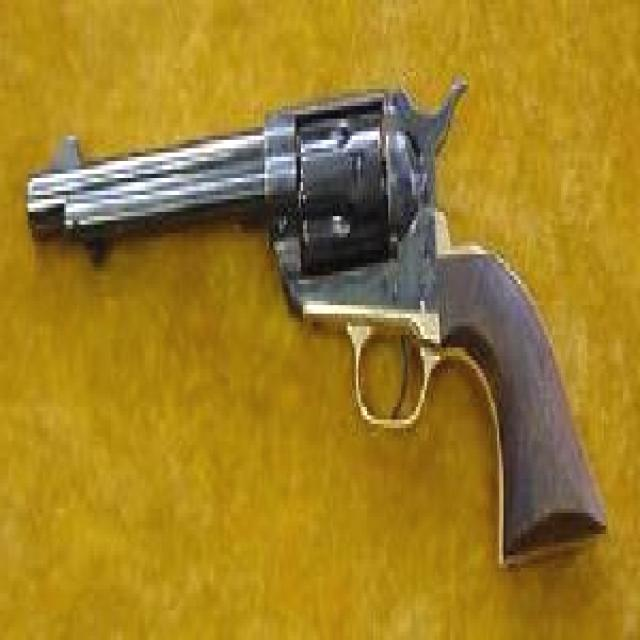pistol: (22, 64, 614, 555)
